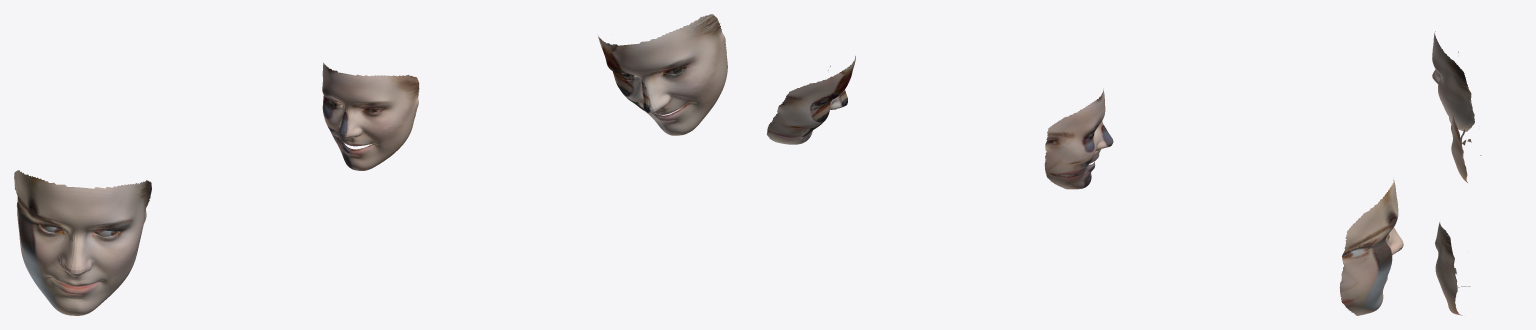
File: 3ddfa-build10.glb
3 views of the same model, side by side, from view 1: azimuth 30°, elevation 25°; view 2: azimuth 150°, elevation 25°; view 3: azimuth 270°, elevation 25° (orthographic). The views are drawn at different scales.
Parts seen in each view (by area): view 1: emma_obj.obj; view 2: emma_obj.obj; view 3: emma_obj.obj.
Part boxes in pixels (box(x1,y1,x2,y2)): emma_obj.obj: box(14, 14, 727, 315); emma_obj.obj: box(767, 56, 1403, 315); emma_obj.obj: box(1432, 31, 1481, 315).
Size of the model in its own units: 3163 by 757 by 495.
